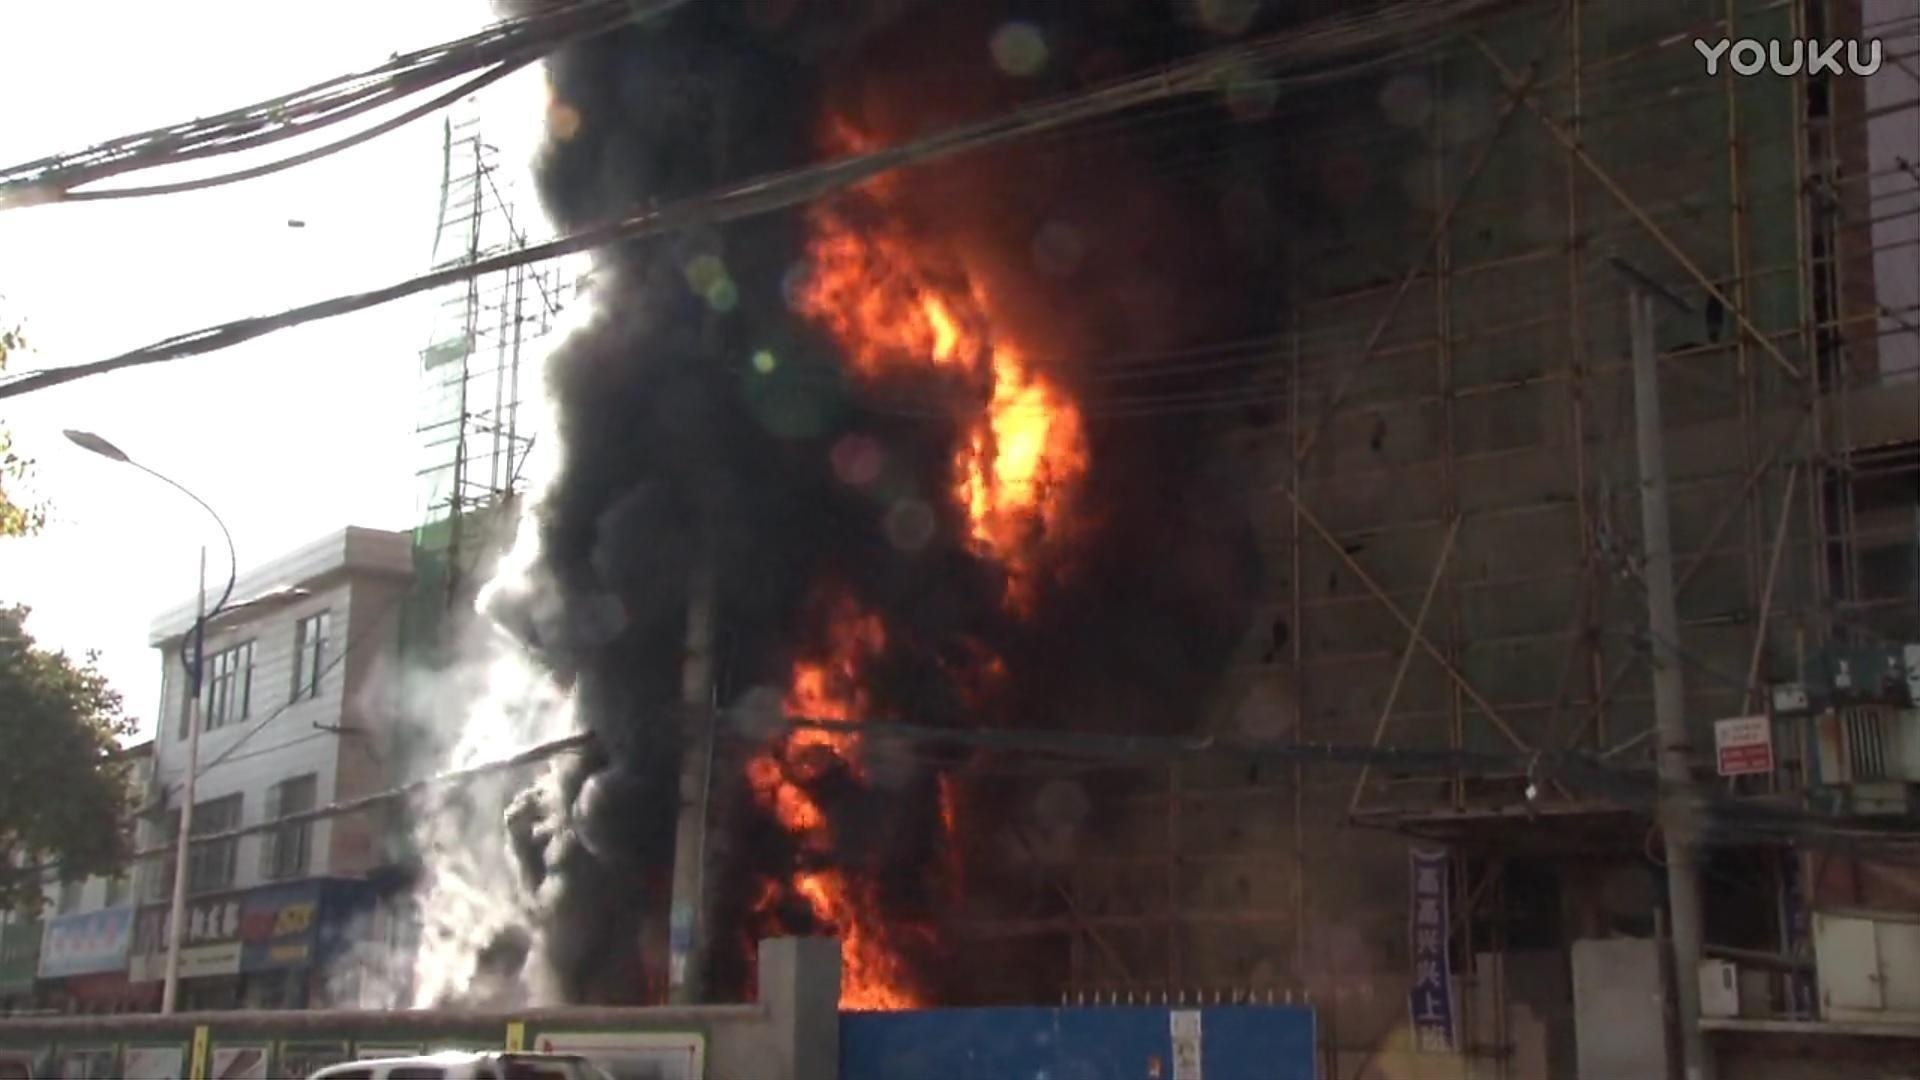fire: (742, 608, 967, 1019), (814, 247, 1073, 547)
